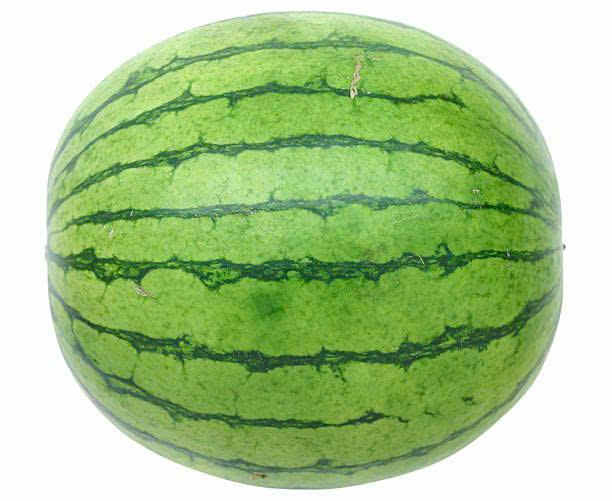watermelon: (43, 4, 567, 500)
